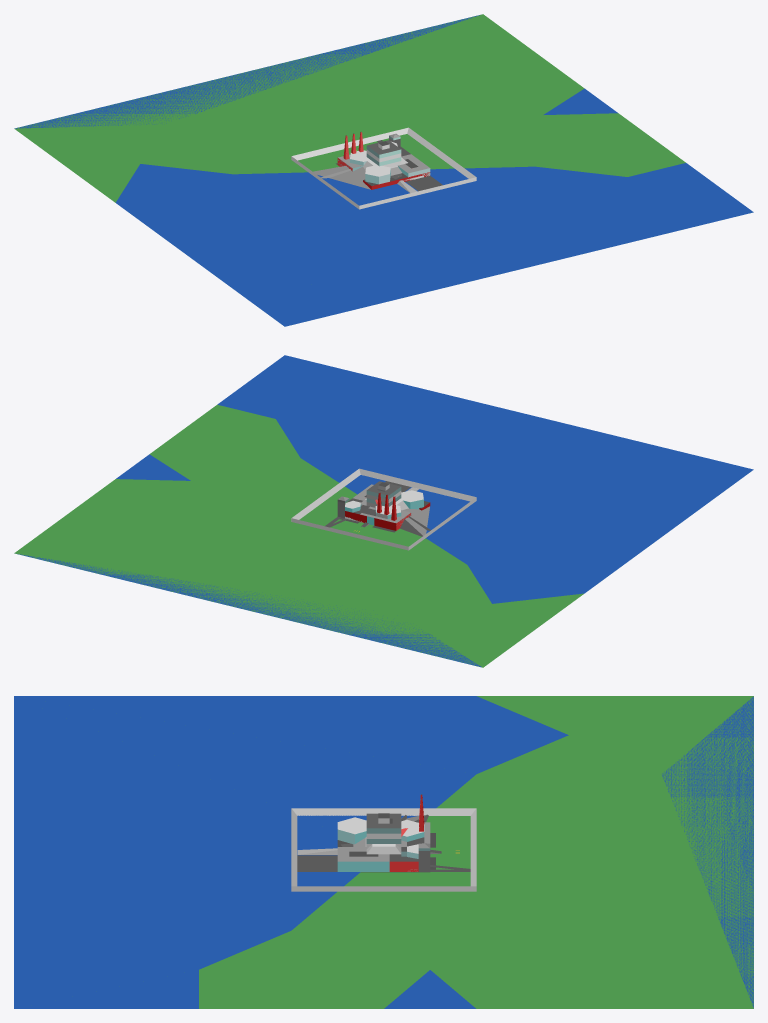
3 renders of one model, top to bottom at view 1: azimuth 30°, elevation 25°; view 2: azimuth 150°, elevation 25°; view 3: azimuth 270°, elevation 25°, orthographic. The views are drawn at different scales.
Visible parts, largest first — view 1: ku_002_lod0, ku_001_lod0, ku_003_lod0, ku_043_lod0, ku_010_lod0, ku_081_lod0; view 2: ku_002_lod0, ku_003_lod0, ku_001_lod0, ku_043_lod0, ku_010_lod0, ku_009_lod0, ku_081_lod0; view 3: ku_002_lod0, ku_003_lod0, ku_001_lod0, ku_043_lod0, ku_081_lod0, ku_032_lod0, ku_009_lod0, ku_095_lod0, ku_084_lod0, ku_009_lod0_s1v0.
Part boxes in pixels (x1,y1,x2,y2): ku_002_lod0: [18, 14, 753, 326]; ku_001_lod0: [14, 15, 685, 202]; ku_003_lod0: [18, 14, 617, 168]; ku_043_lod0: [291, 127, 476, 209]; ku_010_lod0: [313, 166, 401, 189]; ku_081_lod0: [338, 135, 430, 177]; ku_002_lod0: [15, 355, 753, 667]; ku_003_lod0: [14, 454, 478, 665]; ku_001_lod0: [18, 404, 583, 667]; ku_043_lod0: [291, 468, 476, 550]; ku_010_lod0: [400, 506, 429, 536]; ku_009_lod0: [339, 498, 411, 532]; ku_081_lod0: [337, 484, 410, 523]; ku_002_lod0: [14, 696, 753, 1008]; ku_003_lod0: [293, 697, 753, 1008]; ku_001_lod0: [199, 696, 753, 1008]; ku_043_lod0: [291, 808, 476, 891]; ku_081_lod0: [337, 794, 430, 871]; ku_032_lod0: [297, 850, 470, 871]; ku_009_lod0: [361, 833, 435, 872]; ku_095_lod0: [366, 813, 401, 848]; ku_084_lod0: [337, 826, 430, 871]; ku_009_lod0_s1v0: [337, 817, 406, 856].
Size of what is drawn, in the model's own units: 4096 by 256 by 4096.
